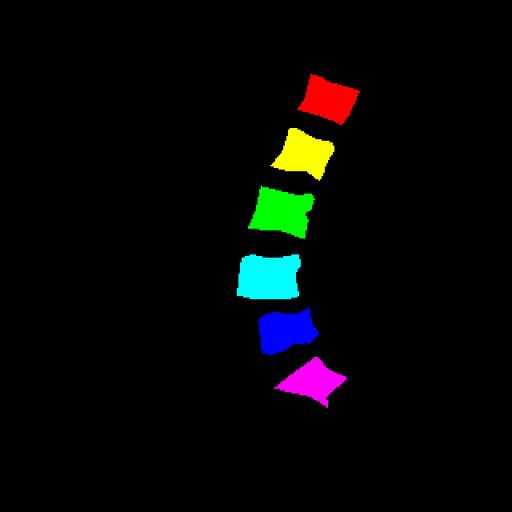L1: (298, 74, 359, 124)
L2: (270, 128, 335, 182)
L3: (248, 186, 314, 238)
L4: (238, 254, 301, 299)
L5: (259, 308, 318, 355)
S1: (274, 357, 347, 408)
